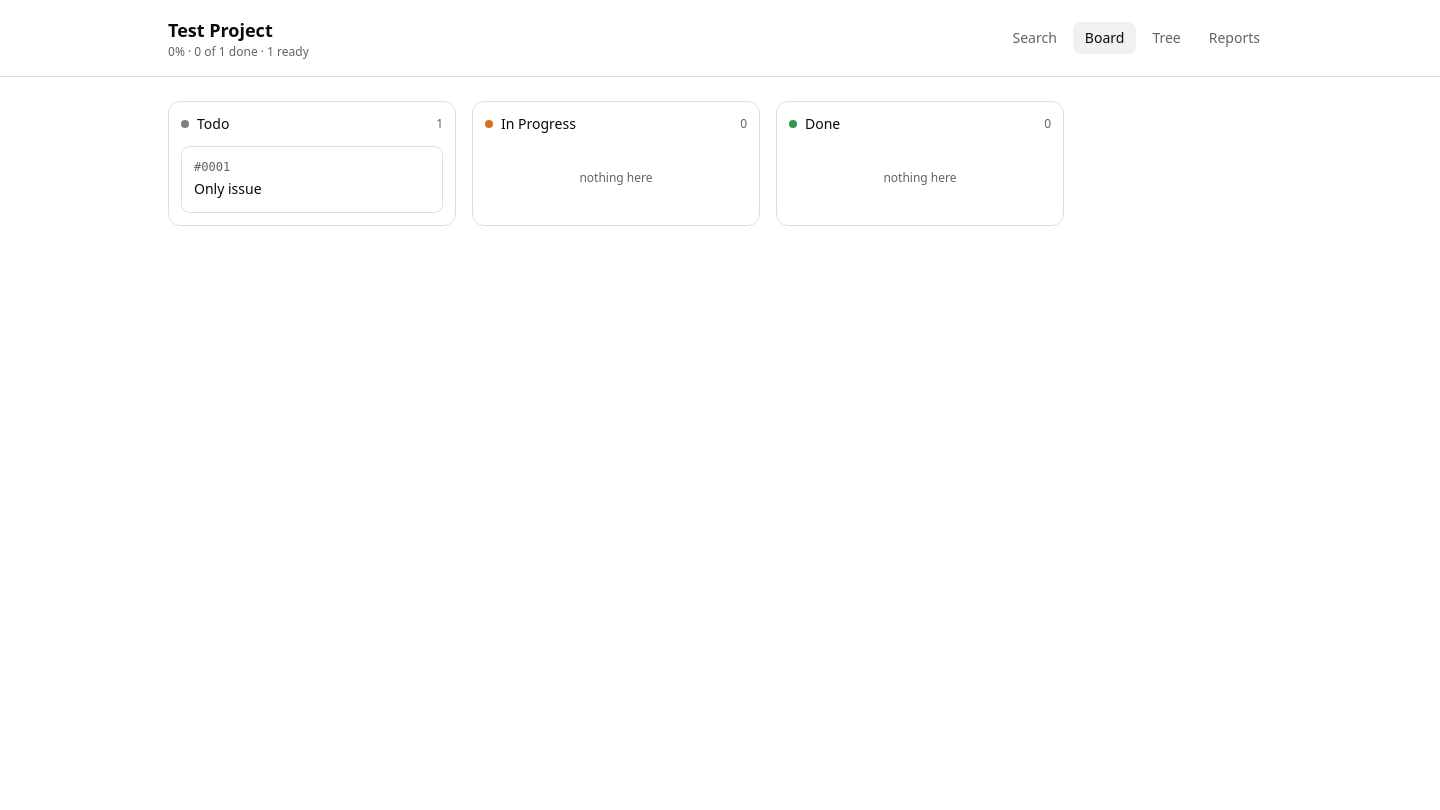
Test case: search › says so when nothing matches
Check: the element with test id "board" is shown, box [168,101,1064,226]
Click the button with test id "search-open". click: (1035,38)
box: [1000,22,1069,54]
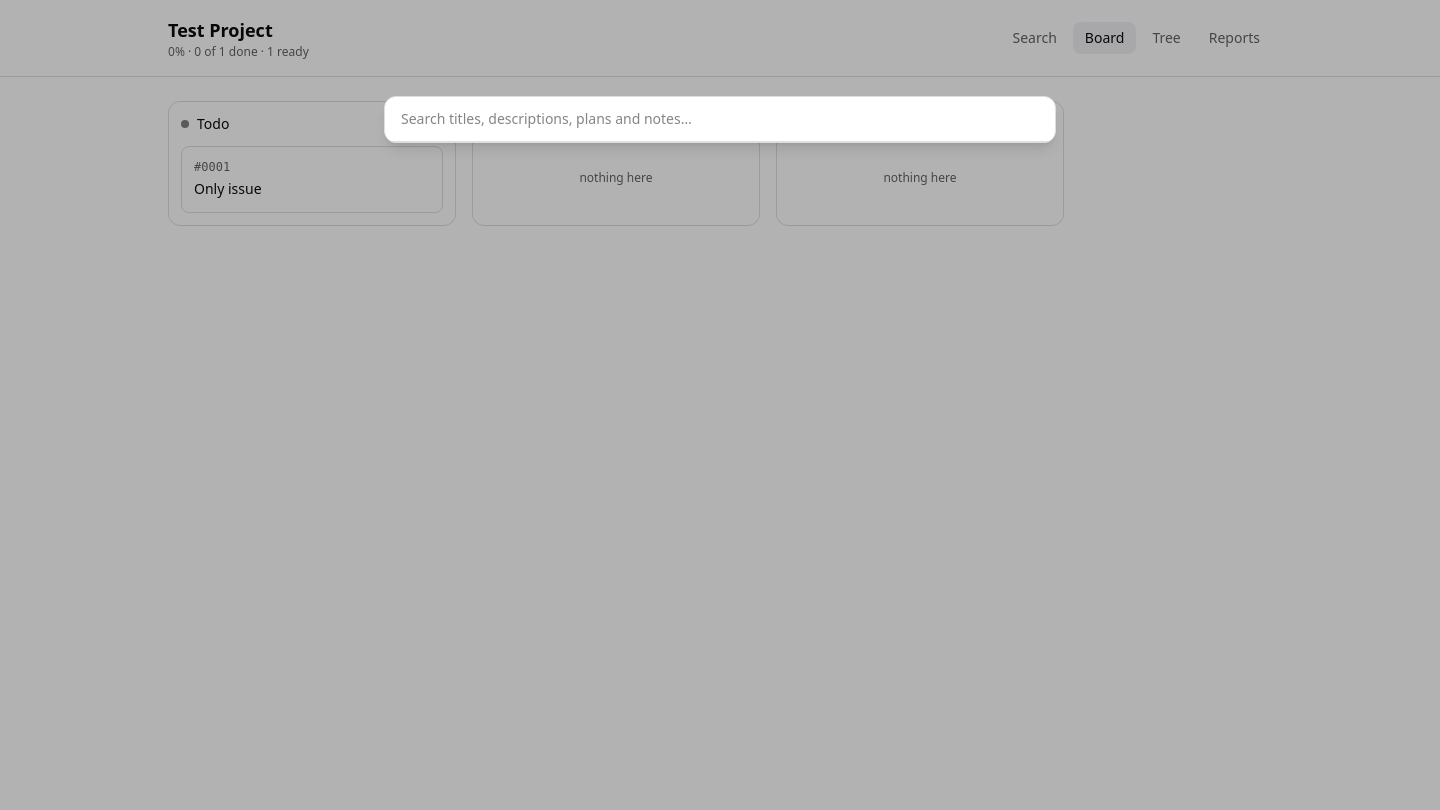
Type "quantum" into the field with test id "search-input". click: (720,120)
box: [385,97,1055,142]
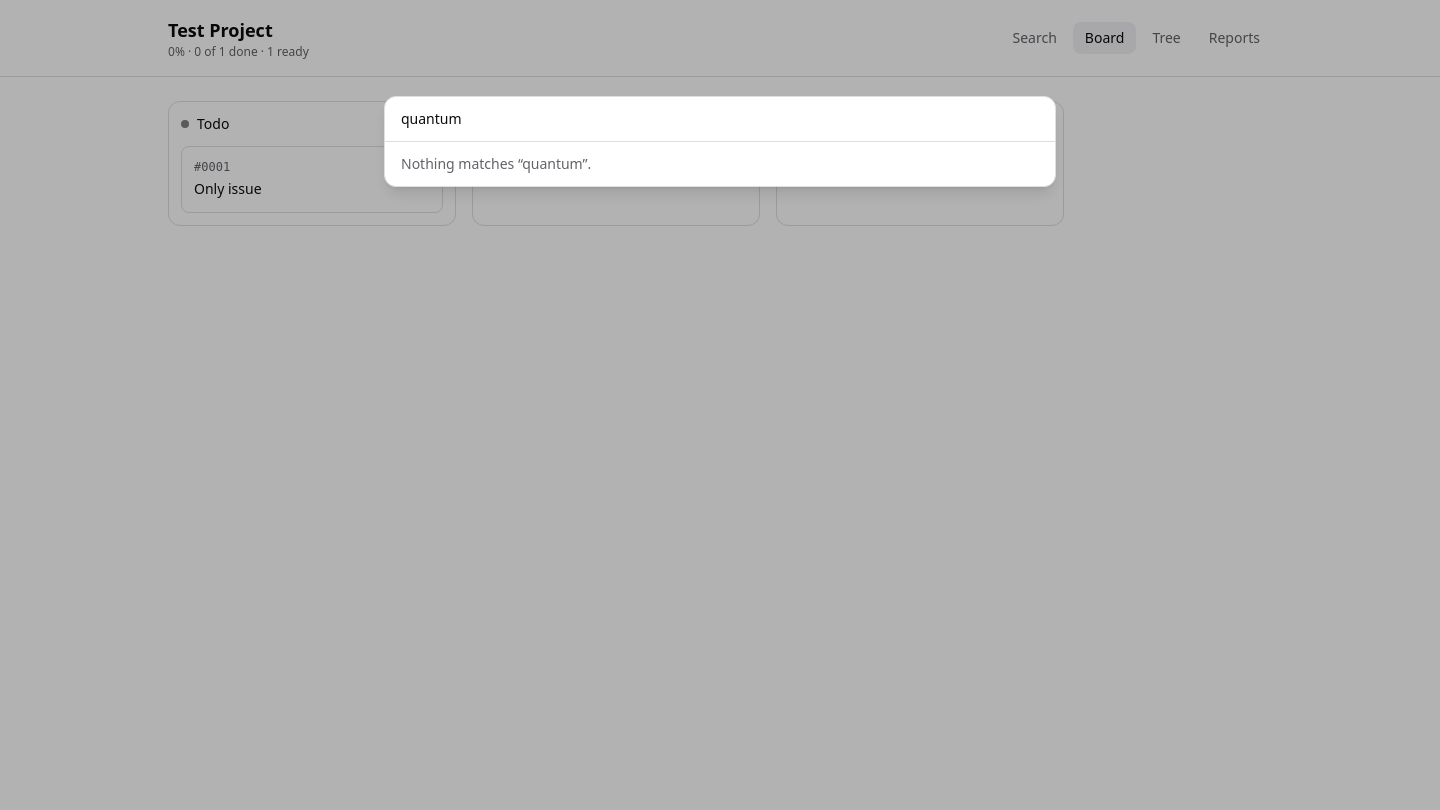
Check: the text "Nothing matches “quantum”." is shown, box [401,154,591,173]
